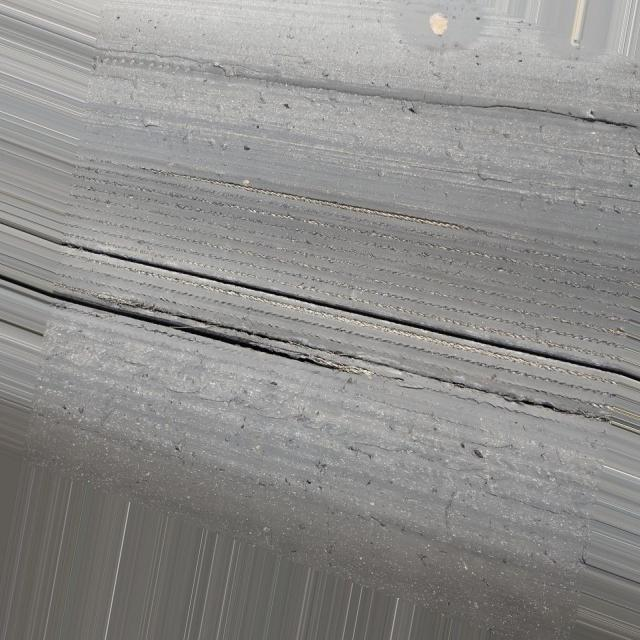Tear: (50, 228, 640, 421), (143, 48, 636, 134), (54, 278, 354, 376)
Wear: (75, 151, 640, 375)
